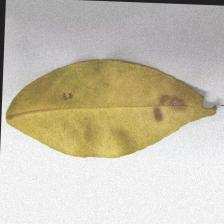black spot: (55, 83, 218, 130)
